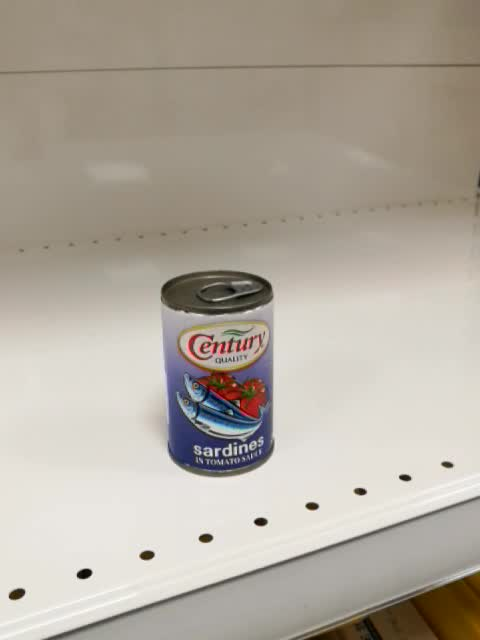sardine: (160, 269, 277, 478)
